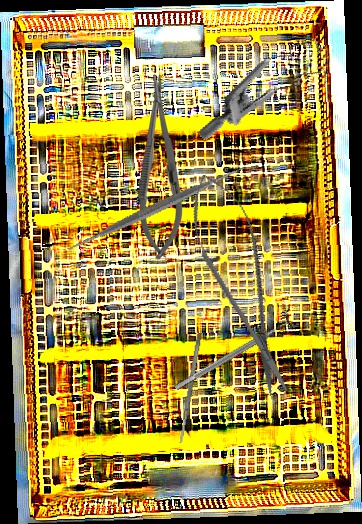Fixation Ring: (170, 308, 298, 398)
Micro Scissor: (176, 165, 307, 403)
Needle Holder: (135, 73, 185, 261)
Spatula Surgical: (59, 110, 253, 307), (177, 332, 203, 444)
Speculum: (197, 11, 341, 175)
